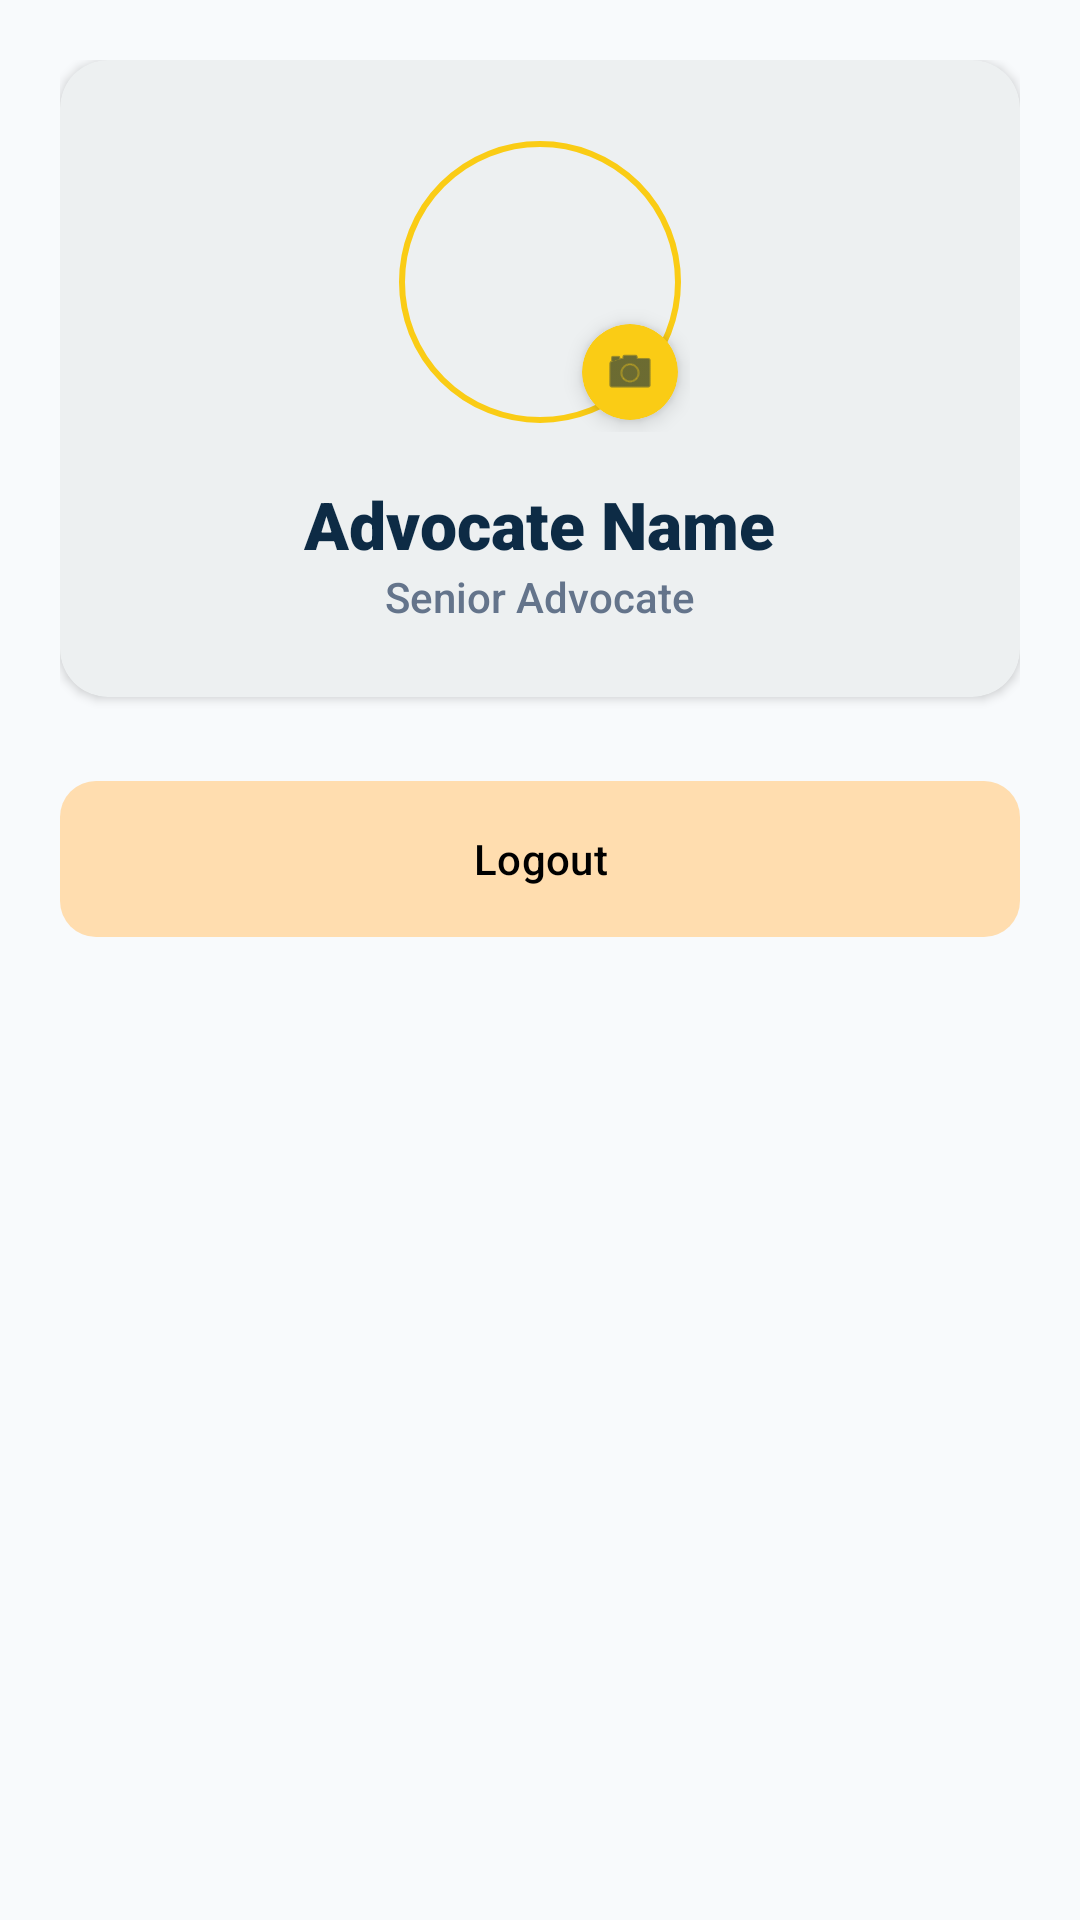

Icon bounding boxes for this 1080*1920 phone screenshot, format (x1, y1, x2, y2):
camera: (609, 355, 651, 388)
